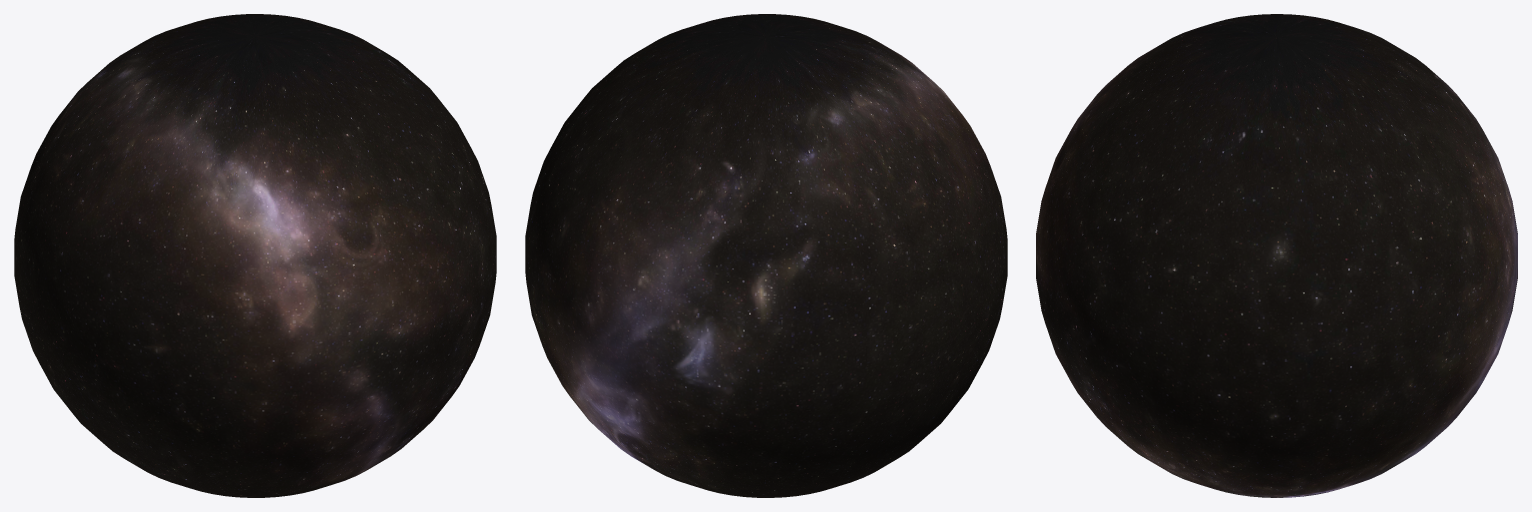
File: milkyway.obj
The picture shows the model from 3 angles, left to right: view 1: azimuth 30°, elevation 25°; view 2: azimuth 150°, elevation 25°; view 3: azimuth 270°, elevation 25°; orthographic projection.
Visible parts, largest first — view 1: PanoSphere; view 2: PanoSphere; view 3: PanoSphere.
Boxes of the visible parts, x1,y1,x2,y2 form: PanoSphere: (14, 14, 496, 497); PanoSphere: (525, 14, 1007, 497); PanoSphere: (1036, 14, 1517, 497).
Bounding box in the file's own units: 34.87 × 34.96 × 34.8.
1 material, 1 textured.
